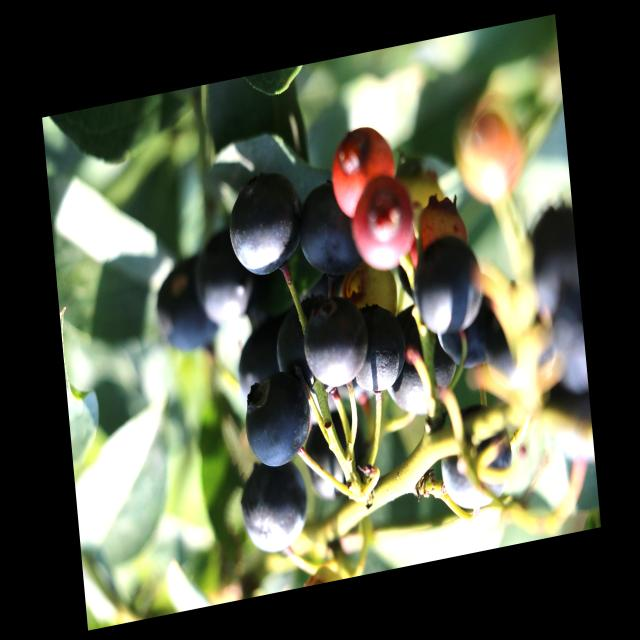blueberry: (375, 286, 467, 427), (217, 158, 310, 288), (432, 395, 522, 524), (405, 225, 495, 349), (230, 442, 316, 570), (185, 212, 272, 336), (147, 243, 227, 370), (293, 167, 372, 293), (240, 363, 320, 476), (300, 279, 376, 397), (301, 401, 376, 514), (228, 300, 301, 410), (341, 293, 412, 405), (431, 290, 511, 378), (268, 297, 334, 403)
blueberry-halfripe: (329, 120, 398, 222), (351, 173, 416, 272), (457, 112, 523, 203), (407, 198, 469, 260)
